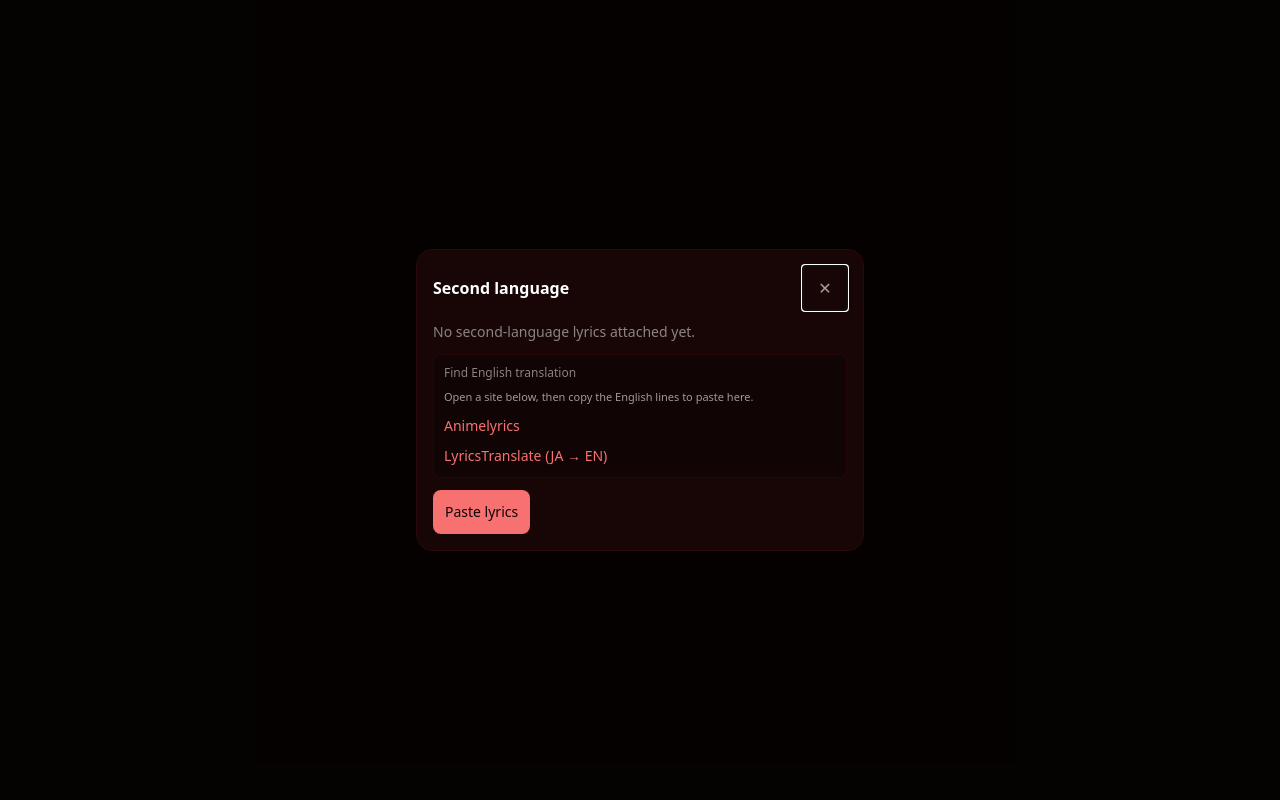
Test case: SecondLanguagePanel › lets the user paste manually
The image size is (1280, 800).
What coordinates should you click on to do the following:
click the button "Paste lyrics"
I would click on:
 (482, 512)
Its box is [433, 490, 530, 534].
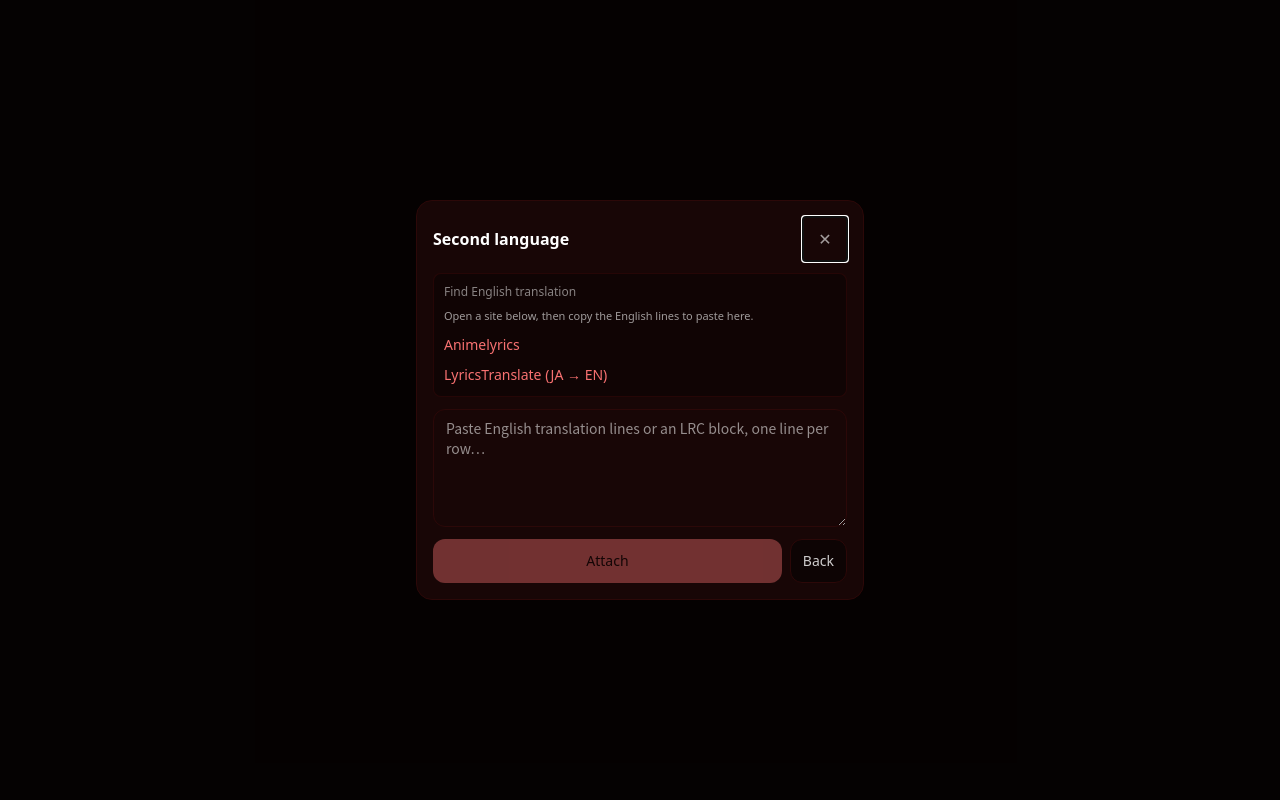
Now the text box with placeholder "English translation" is shown, box [433, 409, 847, 527]
